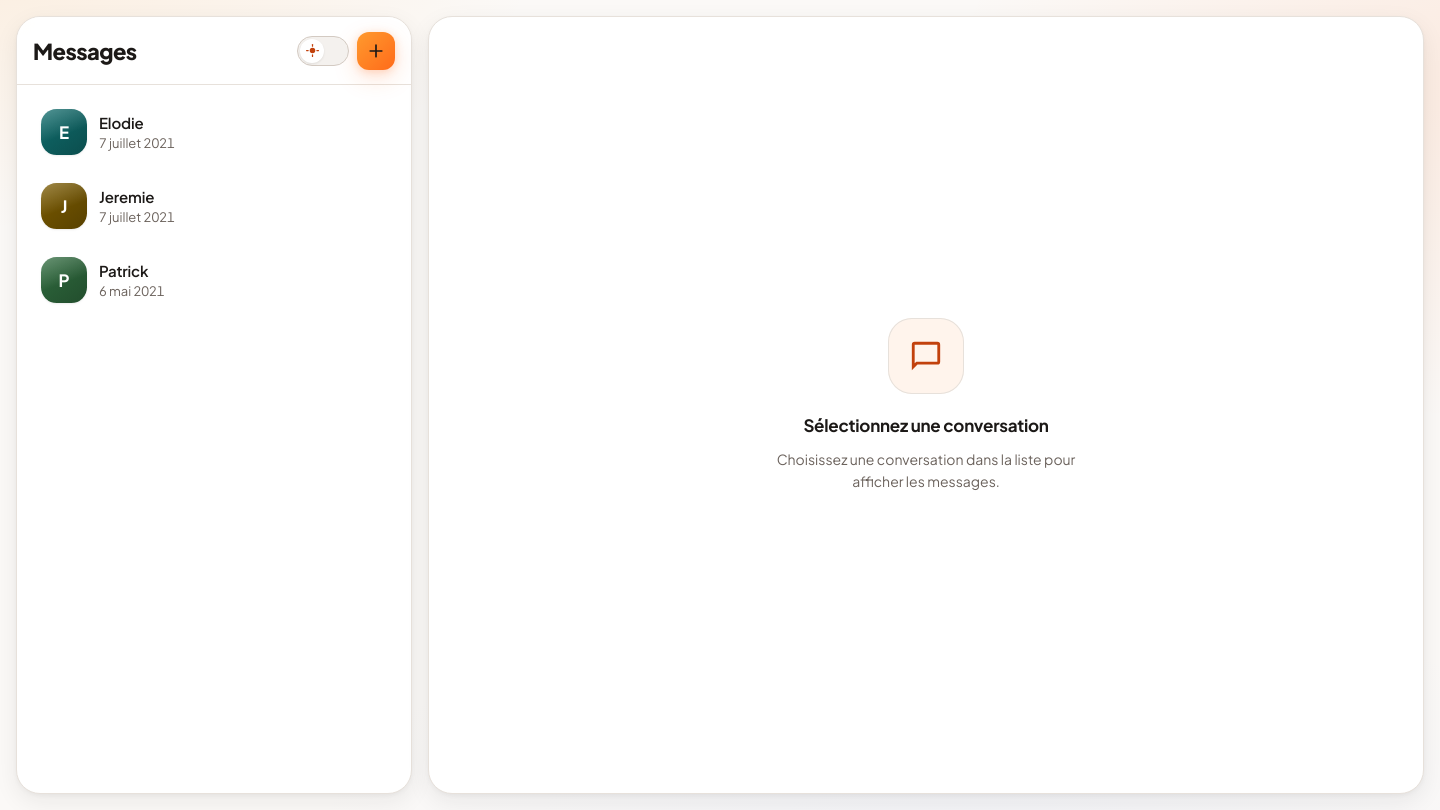
Test case: creating a conversation › closes on Escape
Expected: the navigation bar named "Conversations" is shown, [41, 109, 175, 303]
Step 1. Click the button named "Nouvelle conversation" → (376, 50), box [357, 32, 395, 70]
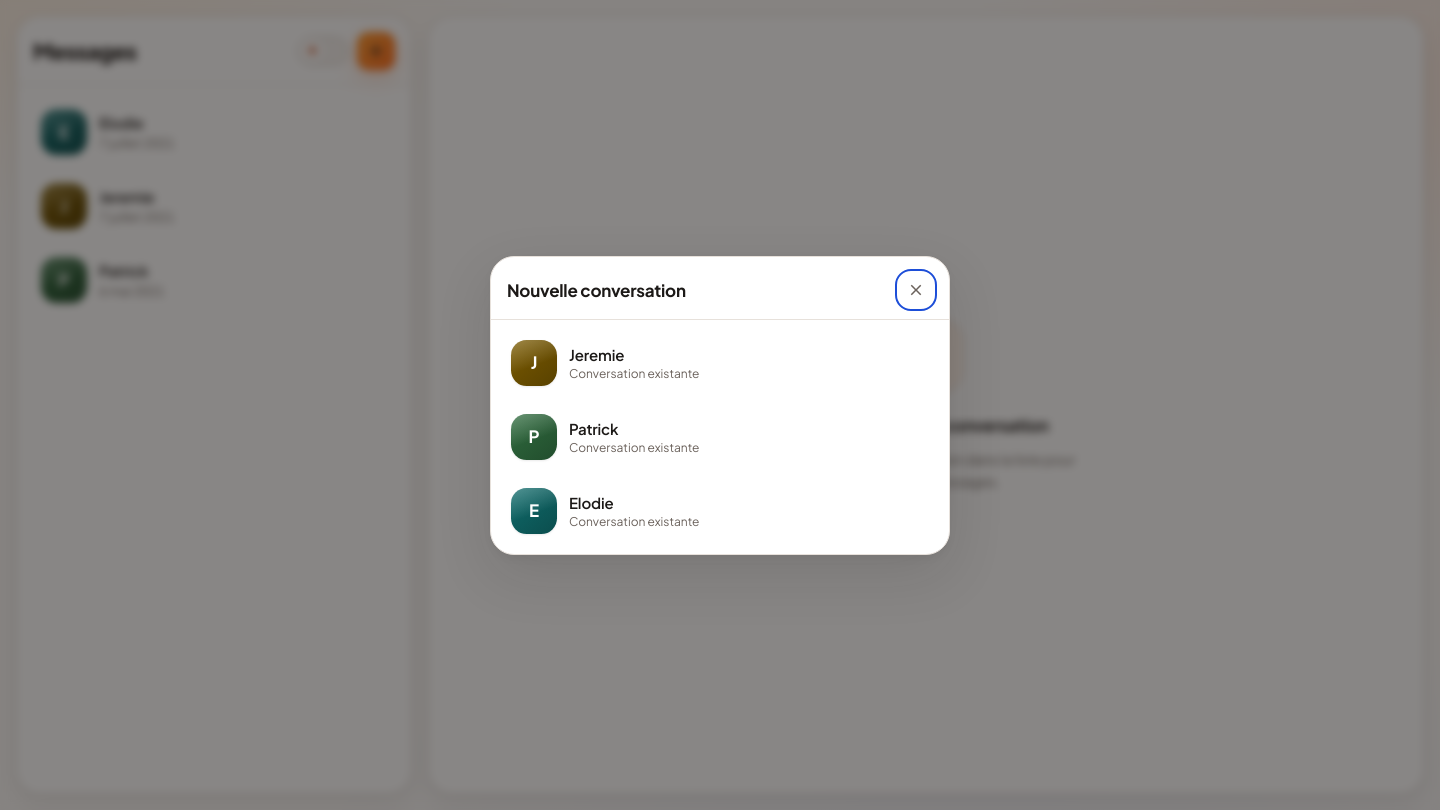
Expected: the dialog is shown, [490, 256, 950, 554]
Step 2. Press Escape
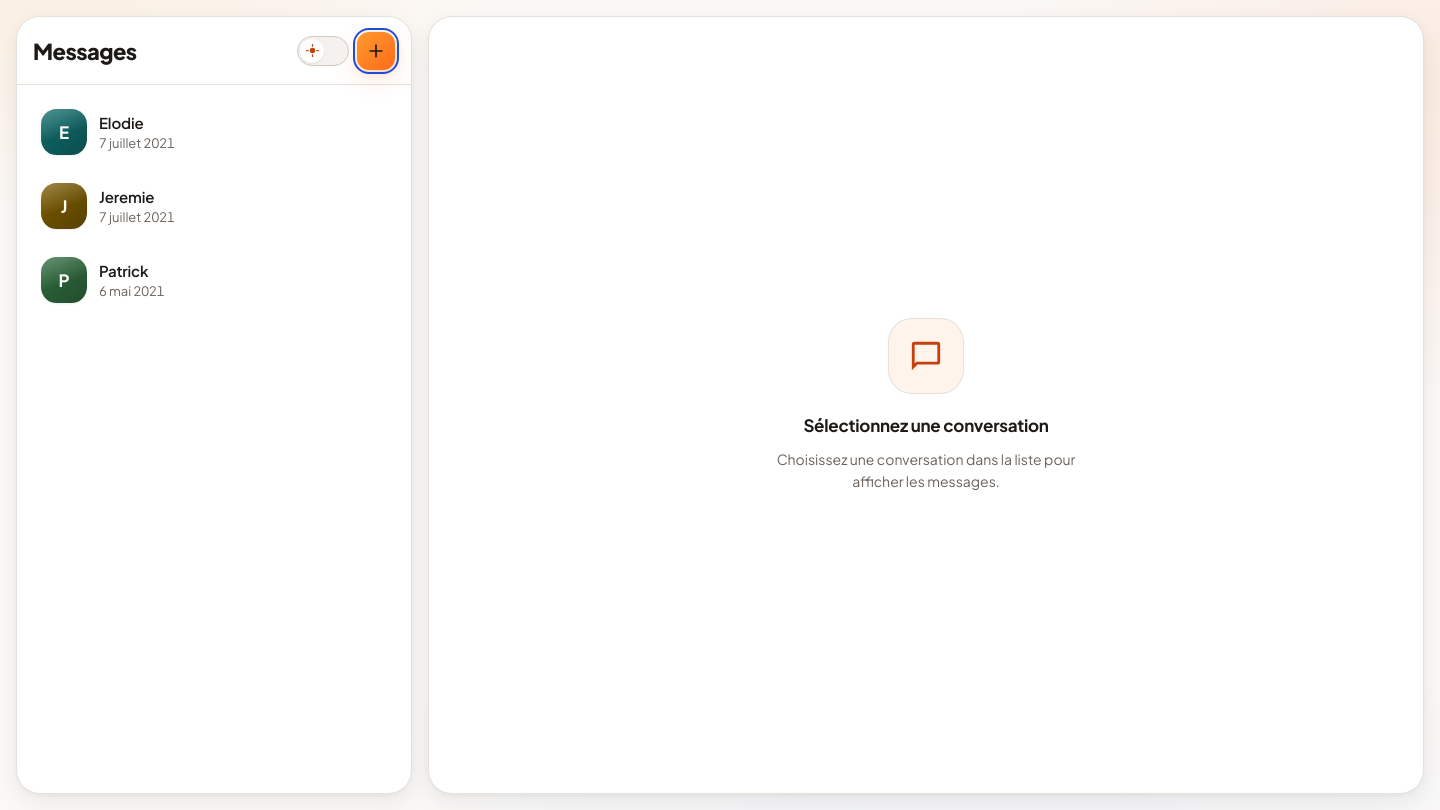
Expected: the dialog is gone
